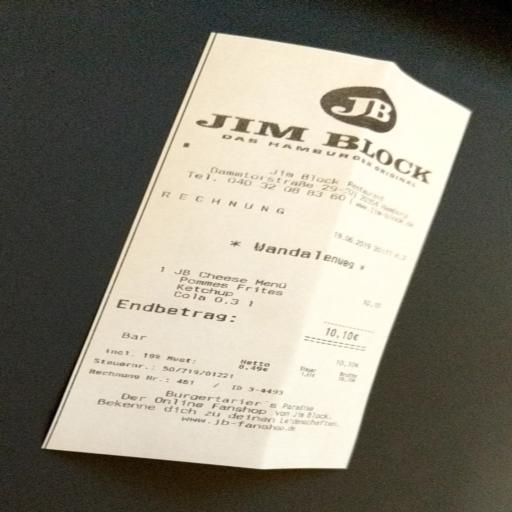paper: (19, 4, 501, 512)
